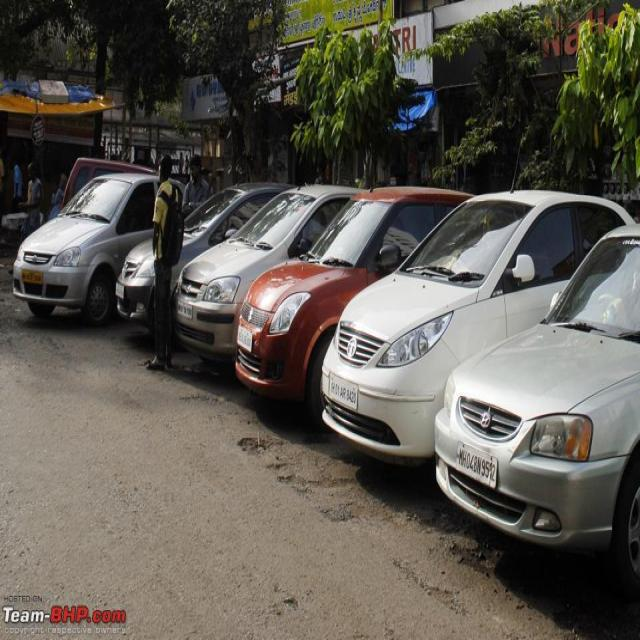plate: (453, 434, 500, 492), (326, 370, 363, 412), (234, 320, 254, 356), (18, 266, 44, 284), (175, 299, 196, 320)
